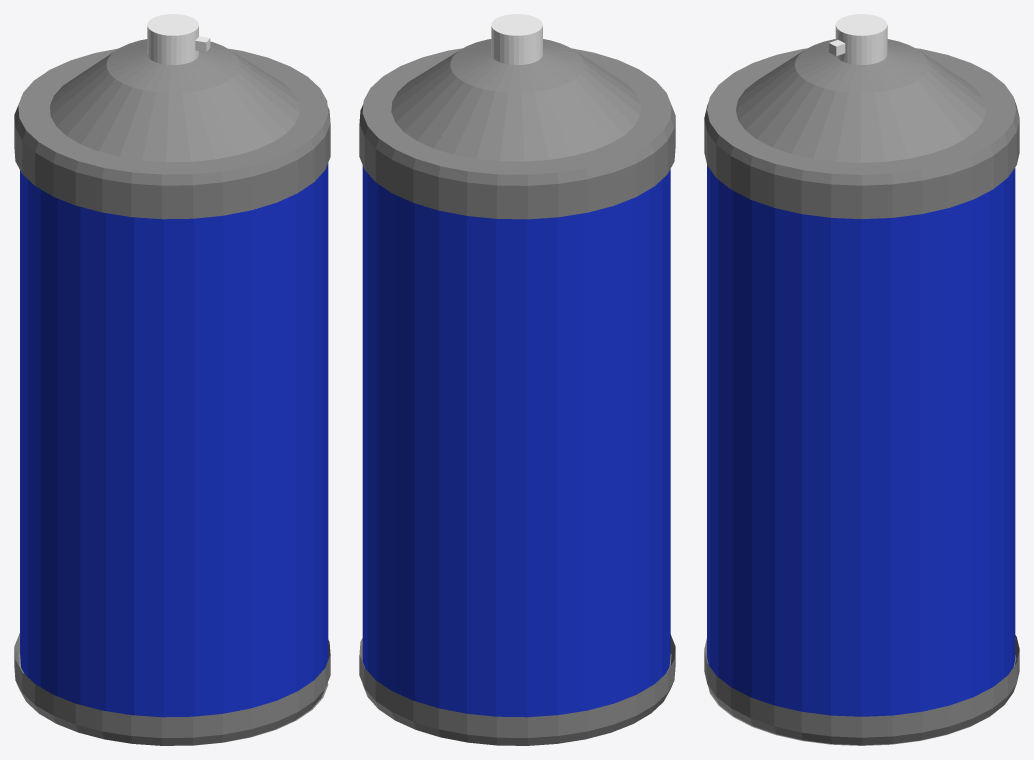
The model's file is spray.fbx.
3 renders of one model, left to right at view 1: azimuth 30°, elevation 25°; view 2: azimuth 150°, elevation 25°; view 3: azimuth 270°, elevation 25°, orthographic.
Parts seen in each view (by area): view 1: 실린더; view 2: 실린더; view 3: 실린더.
Part boxes in pixels (left/top/right/bottom): 실린더: left=14, top=14, right=330, bottom=745; 실린더: left=359, top=14, right=675, bottom=745; 실린더: left=704, top=14, right=1019, bottom=745.
Size of the model in its own units: 16437 by 37507 by 16369.
